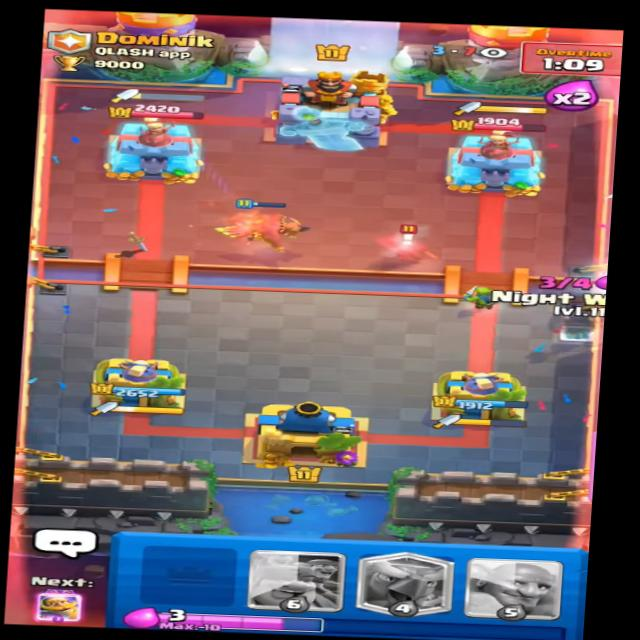bandit: (380, 224, 444, 268)
